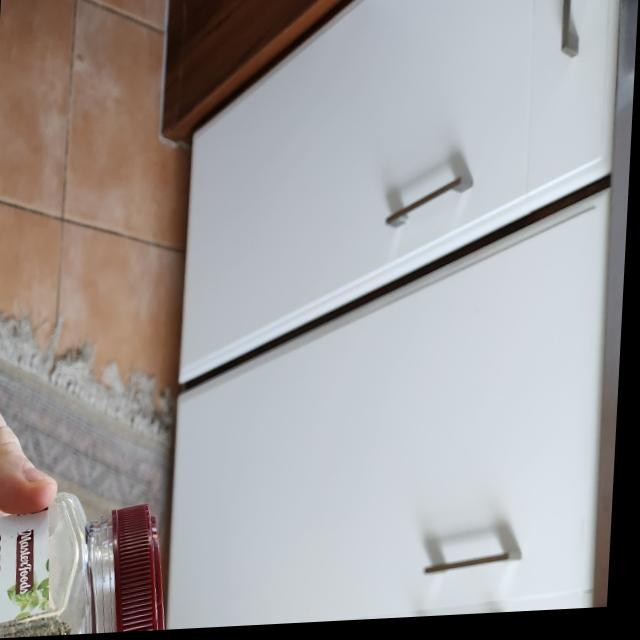oregano: (0, 502, 178, 640)
